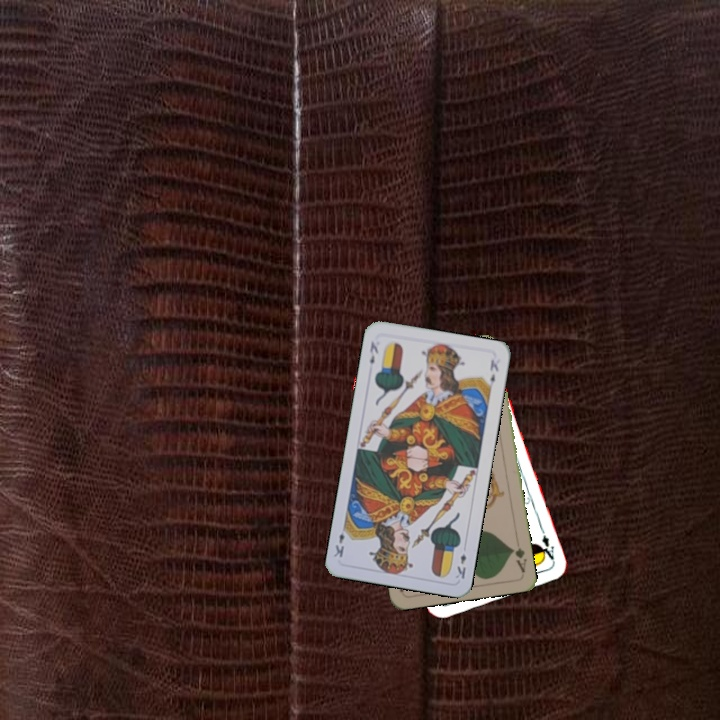EA: (535, 524, 557, 564)
EK: (452, 549, 469, 581), (366, 337, 381, 366)
GA: (507, 543, 529, 575)
